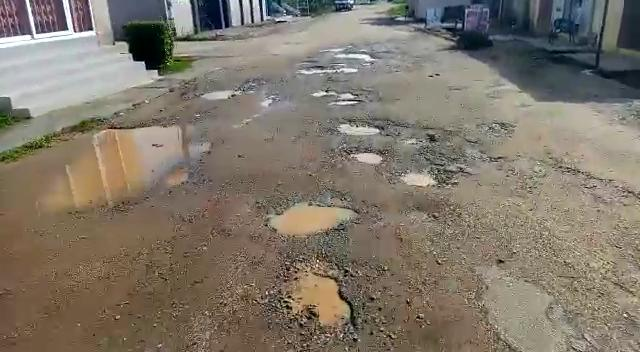pothole: (0, 125, 183, 214), (277, 260, 361, 333), (269, 199, 366, 236), (333, 118, 387, 136), (312, 89, 365, 107), (339, 146, 388, 165), (294, 62, 349, 75), (400, 170, 437, 187), (199, 88, 238, 101), (332, 49, 374, 61)
